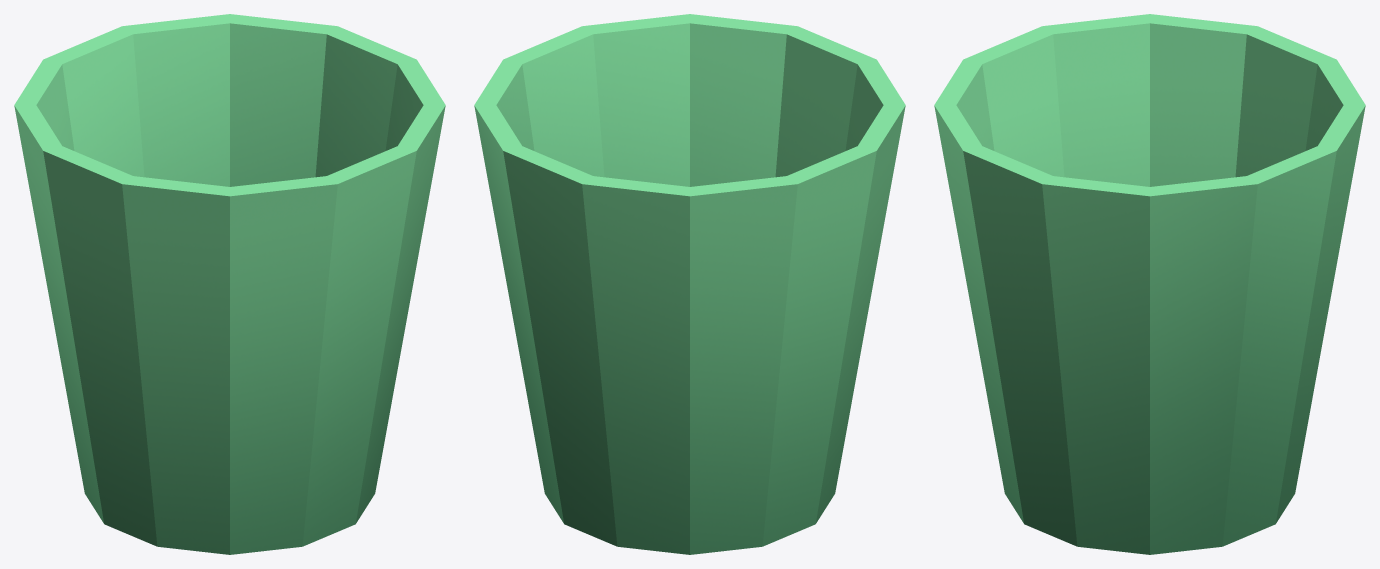
Rendered from Bin.fbx.
3 views of the same model, side by side, from view 1: azimuth 30°, elevation 25°; view 2: azimuth 150°, elevation 25°; view 3: azimuth 270°, elevation 25° (orthographic).
Parts seen in each view (by area): view 1: Bin; view 2: Bin; view 3: Bin.
Part boxes in pixels (x1,y1,x2,y2): Bin: (14, 14, 445, 554); Bin: (474, 14, 905, 554); Bin: (934, 14, 1365, 554).
Bounding box in the file's own units: 36.47 × 36.47 × 36.47.
Materials: 1 (1 with a texture image).
